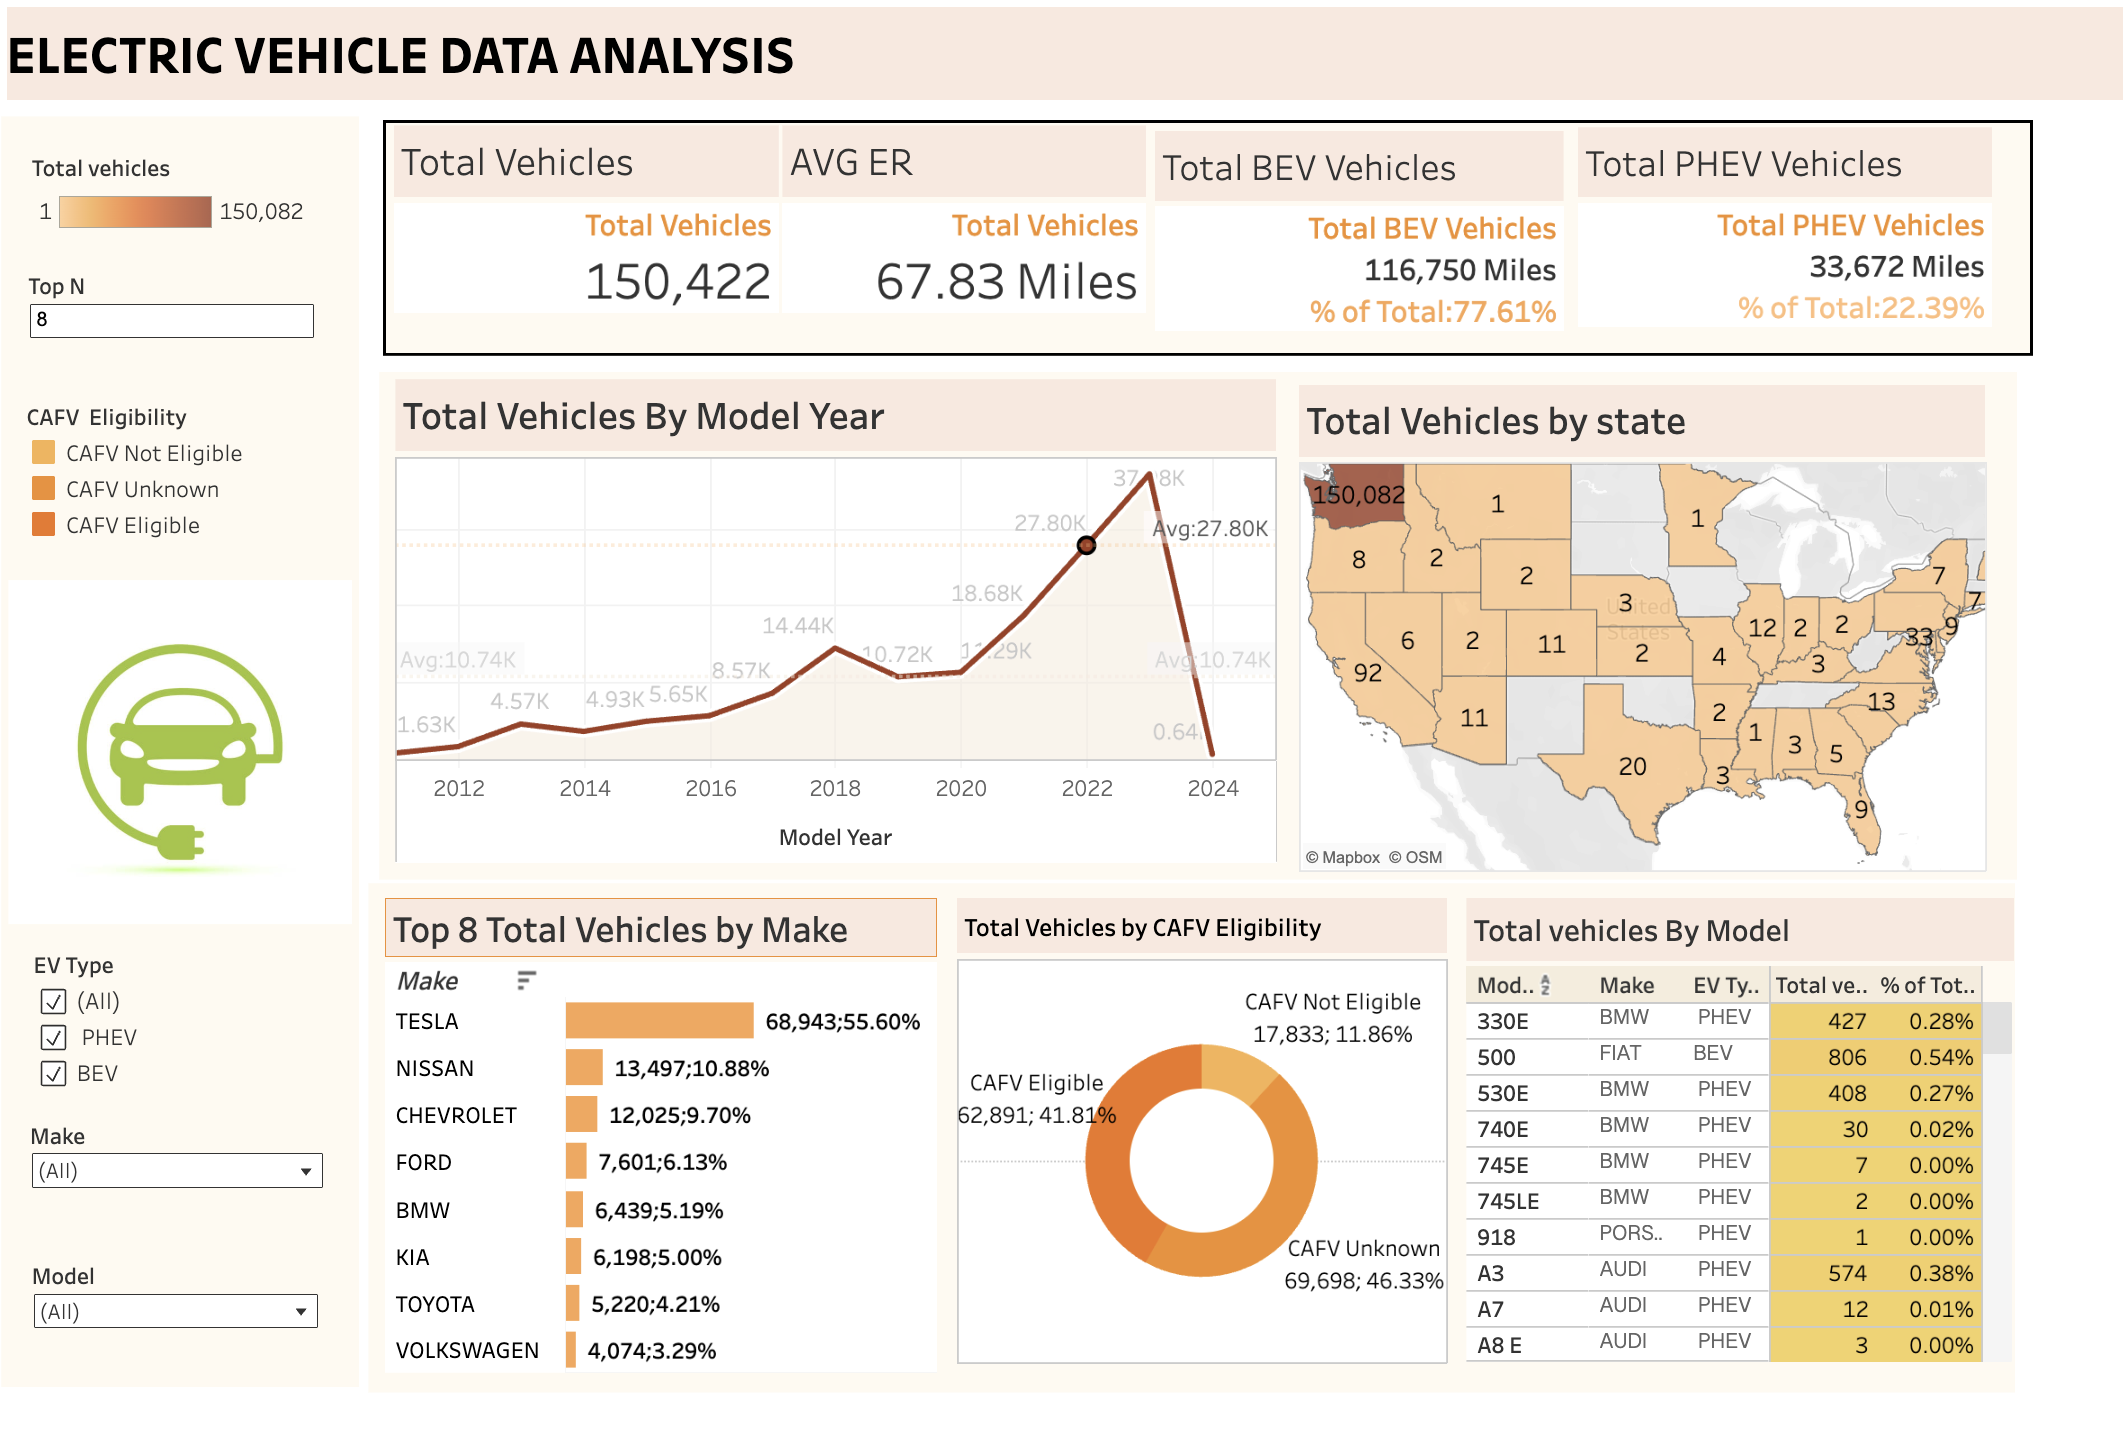

What the dashboard file says about the page in this screenshot:
{"tool":"tableau","page":{"name":"Dashboard 1","canvas":[1200,1000],"ordinal":0},"visuals":[{"type":"title","box":[8,8,1184,60]},{"type":"image","param":"Image/ev image.jpg","box":[9,73,199,706]},{"type":"image","box":[223,77,913,108]},{"type":"worksheet","title":"Total Vehicles","mark":"Automatic","box":[227,78,214,126]},{"type":"worksheet","title":"Total Vehicles (2)","mark":"Automatic","box":[443,78,202,124]},{"type":"worksheet","title":"Total PHEV Vehicles (2)","mark":"Automatic","box":[885,79,230,128]},{"type":"worksheet","title":"Total BEV Vehicles","mark":"Automatic","box":[650,81,227,128]},{"type":"legend","title":"Total Vehicles by state","param":"[federated.01u6a7r0b1gash1060k3t1cdb2gj].[usr:Calculation_0600729908195328:qk]","box":[26,93,156,76]},{"type":"parameter","param":"[Parameters].[Parameter 1]","box":[24,158,160,49]},{"type":"worksheet","title":"Total vehicles By model year","mark":"Area","rows":["Calculation_0600729908195328","Calculation_0600729908195328"],"cols":["Model Year"],"box":[228,219,490,269]},{"type":"worksheet","title":"Total Vehicles by state","mark":"Multipolygon","box":[730,222,382,271]},{"type":"legend","title":"Total Vehicles by CAFV Eligibility","param":"[federated.01u6a7r0b1gash1060k3t1cdb2gj].[none:Clean Alternative Fuel Vehicle (C","box":[23,231,162,78]},{"type":"worksheet","title":"Top 10 vehicles","mark":"Automatic","rows":["Make"],"cols":["Calculation_0600729908195328"],"box":[222,507,307,264]},{"type":"worksheet","title":"Total Vehicles by CAFV Eligibility","mark":"Pie","rows":["Calculation_0276718980595713","Calculation_0276718980595713"],"box":[540,507,273,259]},{"type":"worksheet","title":"Total vehicles By Model","mark":"Square","rows":["Model","Make","Electric Vehicle Type"],"box":[823,507,305,258]},{"type":"filter","title":"Top 10 vehicles","param":"[federated.01u6a7r0b1gash1060k3t1cdb2gj].[none:Electric Vehicle Type:nk]","box":[27,535,160,81]},{"type":"filter","title":"Top 10 vehicles","param":"[federated.01u6a7r0b1gash1060k3t1cdb2gj].[none:Make:nk]","box":[25,630,164,68]}]}

Visuals, with their boxes on the page's 1200x1000 design canvas (x1, y1, x2, y2). These are canvas units, not pixel positions in the 2124x1452 screenshot, which may show the page scaled, cropped or inside an application window:
title: Rect(8, 8, 1192, 68)
image: Rect(9, 73, 208, 779)
image: Rect(223, 77, 1136, 185)
"Total Vehicles" worksheet: Rect(227, 78, 441, 204)
"Total Vehicles (2)" worksheet: Rect(443, 78, 645, 202)
"Total PHEV Vehicles (2)" worksheet: Rect(885, 79, 1115, 207)
"Total BEV Vehicles" worksheet: Rect(650, 81, 877, 209)
"Total Vehicles by state" legend: Rect(26, 93, 182, 169)
parameter: Rect(24, 158, 184, 207)
"Total vehicles By model year" worksheet (Area marks): Rect(228, 219, 718, 488)
"Total Vehicles by state" worksheet (Multipolygon marks): Rect(730, 222, 1112, 493)
"Total Vehicles by CAFV Eligibility" legend: Rect(23, 231, 185, 309)
"Top 10 vehicles" worksheet: Rect(222, 507, 529, 771)
"Total Vehicles by CAFV Eligibility" worksheet (Pie marks): Rect(540, 507, 813, 766)
"Total vehicles By Model" worksheet (Square marks): Rect(823, 507, 1128, 765)
"Top 10 vehicles" filter: Rect(27, 535, 187, 616)
"Top 10 vehicles" filter: Rect(25, 630, 189, 698)
